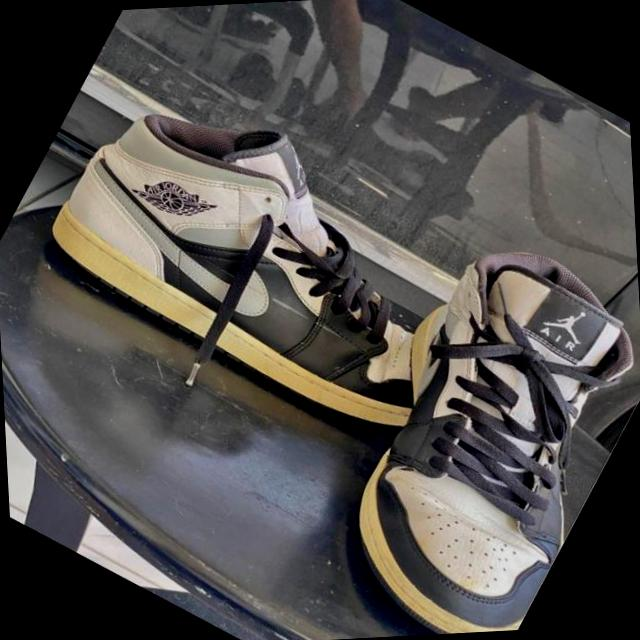nike_fake_jordan: (15, 31, 562, 499), (270, 206, 640, 640)
